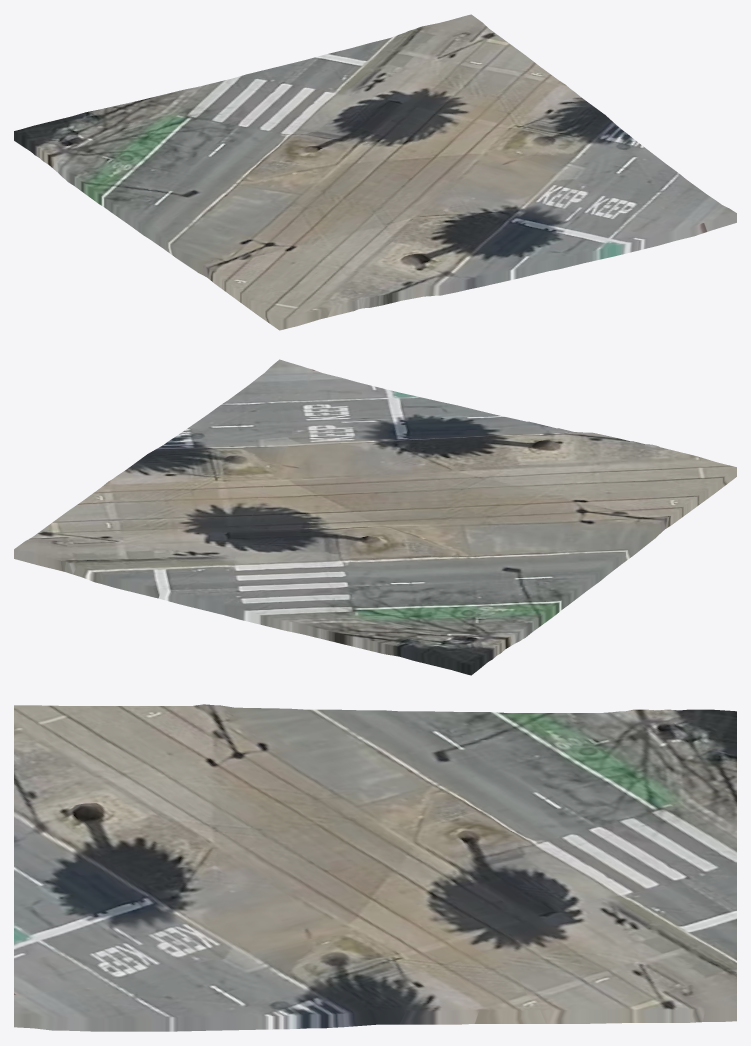
Rendered from z20-167769-405193-h0-yup-uvflip-v3-world.glb.
3 renders of one model, top to bottom at view 1: azimuth 30°, elevation 25°; view 2: azimuth 150°, elevation 25°; view 3: azimuth 270°, elevation 25°, orthographic. The views are drawn at different scales.
Bounding box in the file's own units: 30.16 × 1.4 × 30.32.
1 material, 1 textured.
